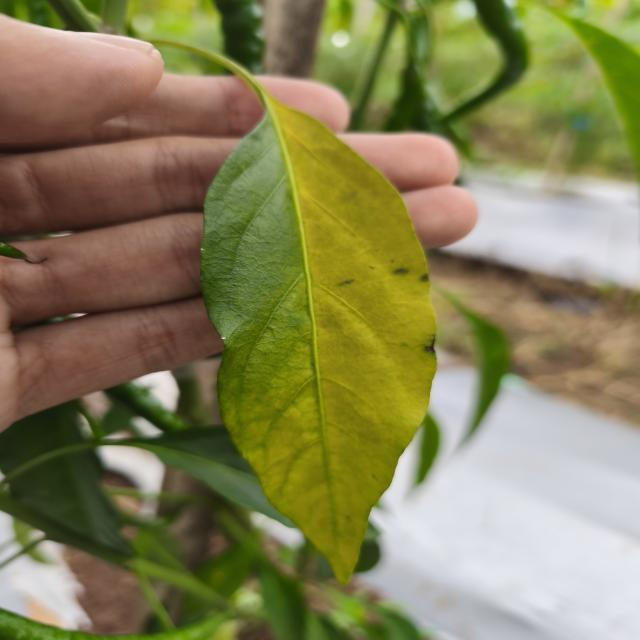Virus Kuning: (200, 104, 439, 588)
